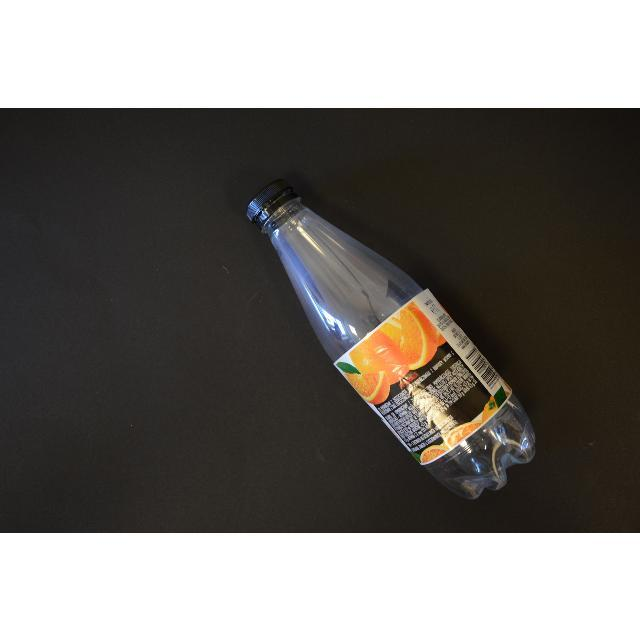PET Bottle: (240, 174, 543, 502)
